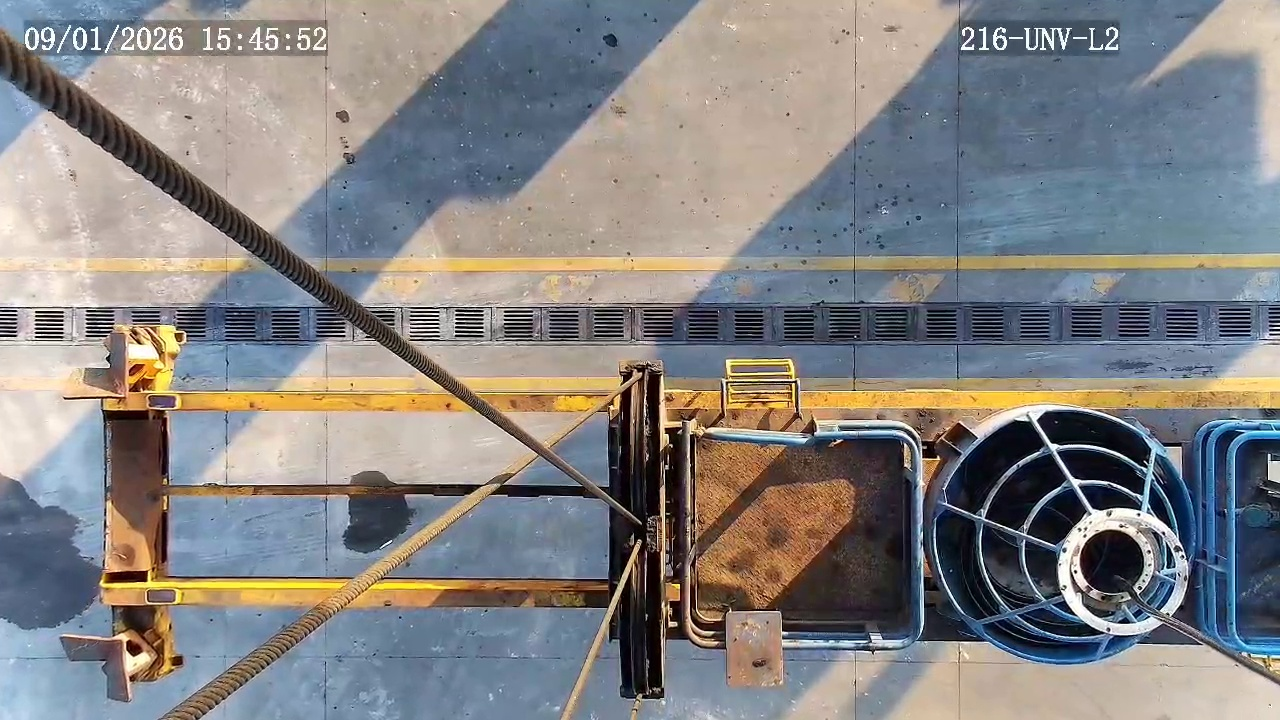left: (1058, 508, 1190, 636)
